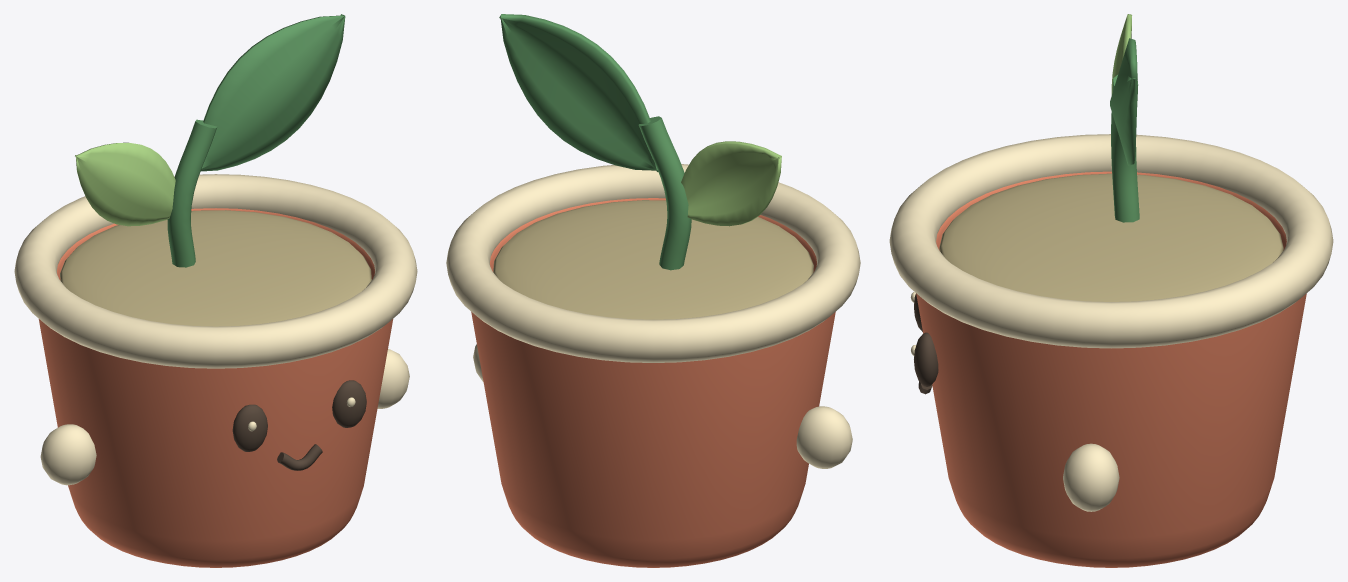
File: Gardener.fbx
The picture shows the model from 3 angles, left to right: view 1: azimuth 30°, elevation 25°; view 2: azimuth 150°, elevation 25°; view 3: azimuth 270°, elevation 25°; orthographic projection. The views are drawn at different scales.
Visible parts, largest first — view 1: Hand-thrown terracotta body, Thick butter-glazed rim, Seed bed, Gardener's big leaf, Gardener's little leaf, Bent leaf hat, Small glazed hand, Small glazed hand.001, Espresso eye, Espresso eye.001, Contented smile; view 2: Hand-thrown terracotta body, Thick butter-glazed rim, Seed bed, Gardener's big leaf, Gardener's little leaf, Bent leaf hat, Small glazed hand; view 3: Hand-thrown terracotta body, Thick butter-glazed rim, Seed bed, Small glazed hand.001, Gardener's big leaf, Bent leaf hat, Espresso eye.001, Gardener's little leaf.
Part boxes in pixels (x1,y1,x2,y2): Hand-thrown terracotta body: (38,208,393,567); Thick butter-glazed rim: (14,174,417,368); Seed bed: (60,210,371,326); Gardener's big leaf: (200,14,345,171); Gardener's little leaf: (75,142,175,226); Bent leaf hat: (167,119,217,267); Small glazed hand: (40,424,96,485); Small glazed hand.001: (377,348,409,408); Espresso eye: (232,404,267,451); Espresso eye.001: (332,380,366,427); Contented smile: (277,444,322,470); Hand-thrown terracotta body: (471,198,835,567); Thick butter-glazed rim: (446,164,860,362); Seed bed: (493,200,813,319); Gardener's big leaf: (499,14,658,171); Gardener's little leaf: (681,141,781,226); Bent leaf hat: (638,116,691,270); Small glazed hand: (796,406,852,468); Hand-thrown terracotta body: (916,171,1306,567); Thick butter-glazed rim: (889,134,1333,348); Seed bed: (939,173,1283,301); Small glazed hand.001: (1063,443,1119,511); Gardener's big leaf: (1110,38,1137,165); Bent leaf hat: (1111,75,1139,222); Espresso eye.001: (914,332,938,386); Gardener's little leaf: (1111,14,1131,94).
Bounding box in the file's own units: 57 × 69.68 × 54.75.
